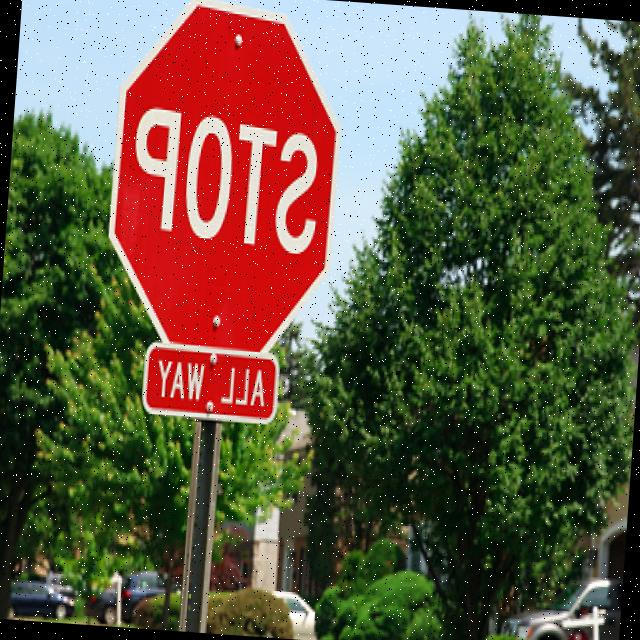stop: (94, 0, 357, 361)
